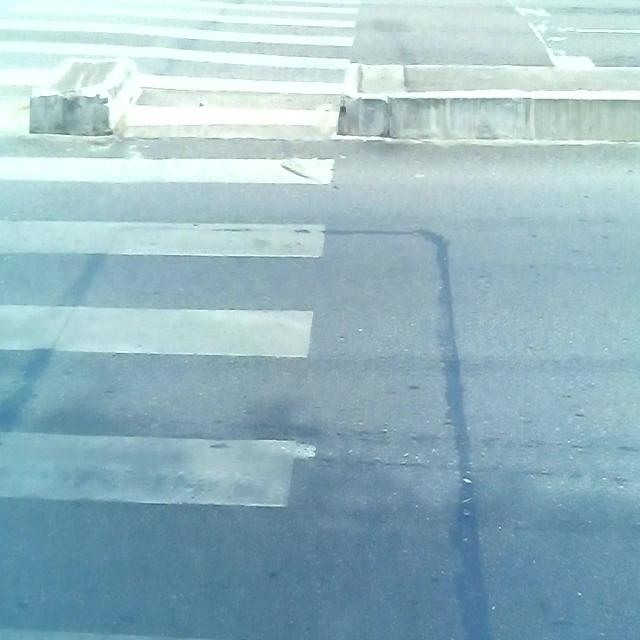crosswalk: (0, 0, 362, 640)
